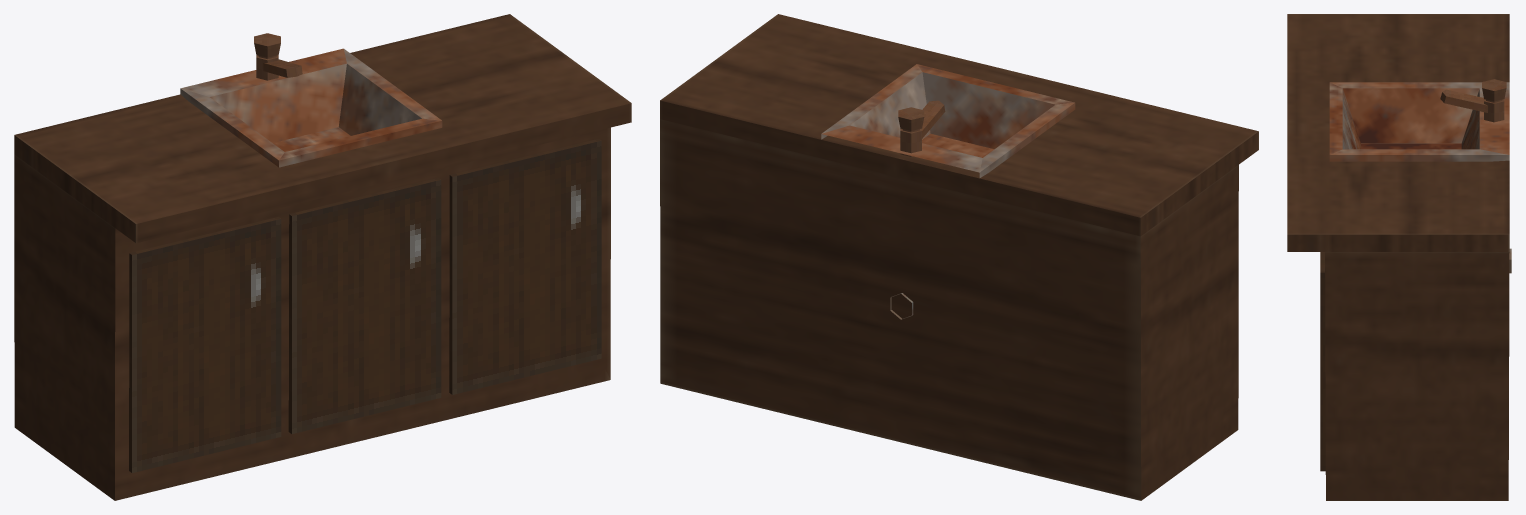
Rendered from nizhn_shkaf_kuhnya (1).fbx.
3 views of the same model, side by side, from view 1: azimuth 30°, elevation 25°; view 2: azimuth 150°, elevation 25°; view 3: azimuth 270°, elevation 25° (orthographic). The views are drawn at different scales.
Parts seen in each view (by area): view 1: Main_Wood_Frame.001, Doors.004, Doors.003, Doors.005, Main_Wood_Frame.002, Circle.003; view 2: Main_Wood_Frame.001, Main_Wood_Frame.002, Circle.003; view 3: Main_Wood_Frame.001, Main_Wood_Frame.002, Circle.003, Doors.005.
Part boxes in pixels (x1=…): Main_Wood_Frame.001: x1=14, y1=14, x2=631, y2=500; Doors.004: x1=288, y1=178, x2=441, y2=433; Doors.003: x1=129, y1=217, x2=281, y2=472; Doors.005: x1=449, y1=138, x2=601, y2=394; Main_Wood_Frame.002: x1=180, y1=48, x2=442, y2=167; Circle.003: x1=254, y1=33, x2=302, y2=80; Main_Wood_Frame.001: x1=660, y1=14, x2=1258, y2=500; Main_Wood_Frame.002: x1=821, y1=64, x2=1075, y2=177; Circle.003: x1=898, y1=100, x2=945, y2=156; Main_Wood_Frame.001: x1=1287, y1=14, x2=1509, y2=500; Main_Wood_Frame.002: x1=1329, y1=82, x2=1509, y2=161; Circle.003: x1=1440, y1=79, x2=1506, y2=122; Doors.005: x1=1320, y1=252, x2=1325, y2=471.
Bounding box in the file's own units: 164 × 106 × 70.68.
5 materials, 5 textured.
